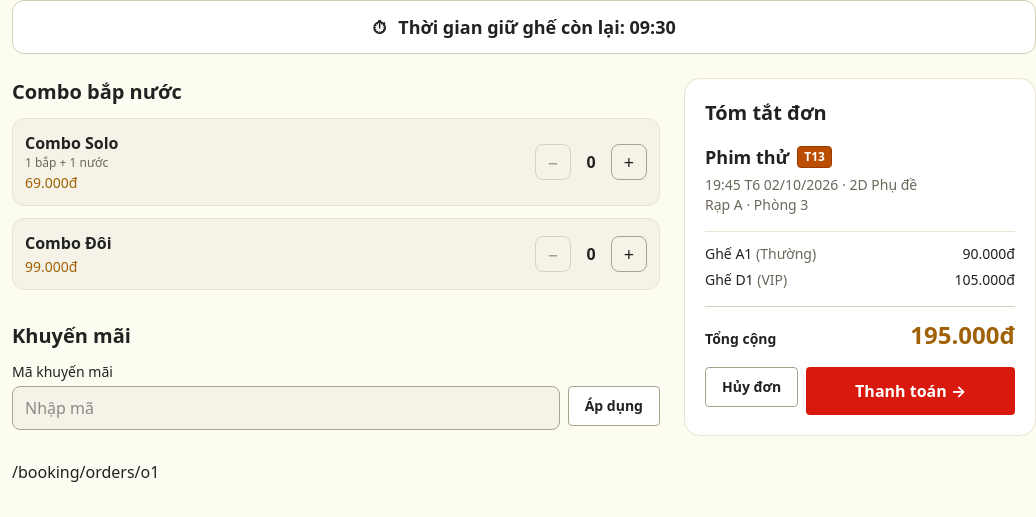
Test: CheckoutPage (P06) › mã bị từ chối với lý do NOT_FOUND: hiện thông báo tiếng Việt đúng lý do
Expected: the heading "Phim thử" is shown, [705,143,789,171]
Type "abc" into the field labelled "Mã khuyến mãi" at (286, 408), box [12,386,560,430]
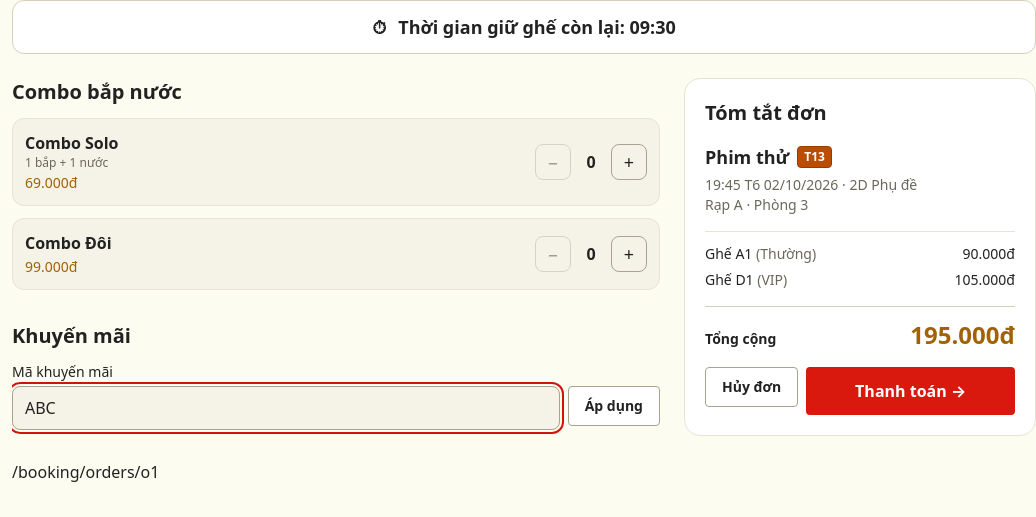
Click the button "Áp dụng" at (614, 406), box [568,386,660,426]
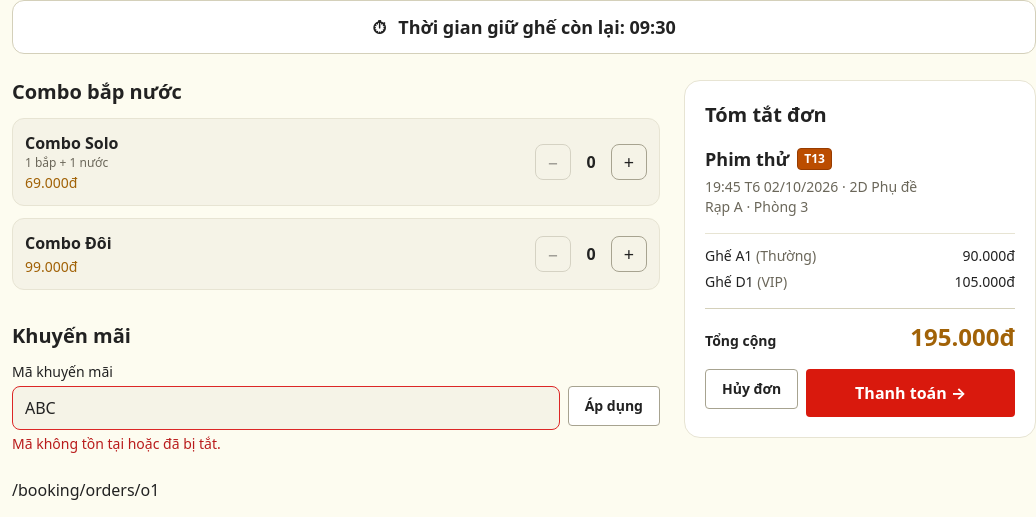
Expected: the text with test id "order-total" reads "195.000đ", [910,320,1015,353]
Result: the text "Mã không tồn tại hoặc đã bị tắt." is shown at [12,434,221,453]
